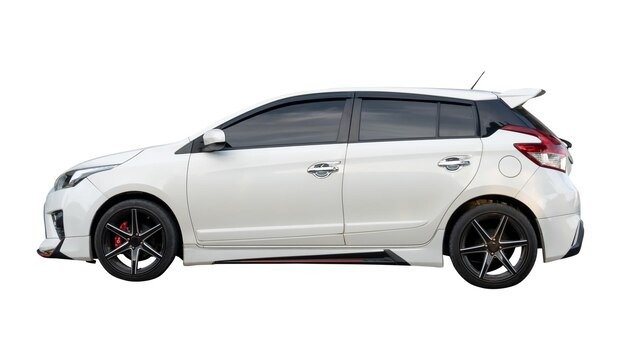car: (45, 83, 584, 291), (41, 87, 584, 293)
